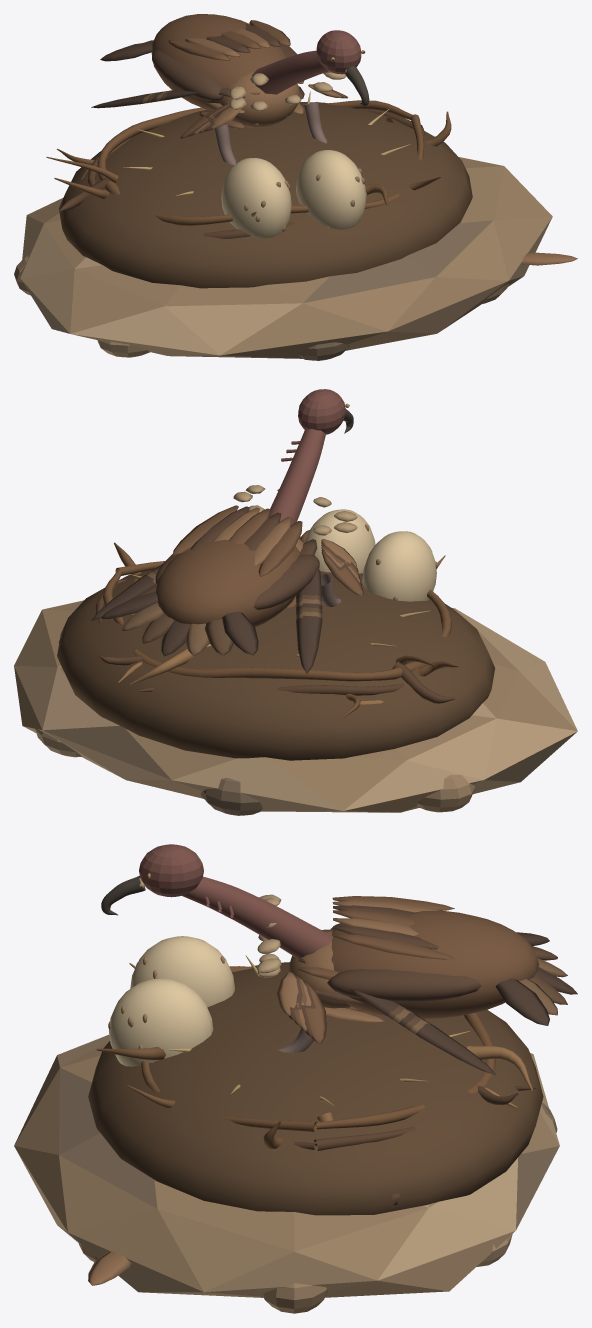
The model's file is ninho_abutres.glb.
The picture shows the model from 3 angles, top to bottom: view 1: azimuth 30°, elevation 25°; view 2: azimuth 150°, elevation 25°; view 3: azimuth 270°, elevation 25°; orthographic projection. The views are drawn at different scales.
Parts seen in each view (by area): view 1: Ninho de abutres | Arenito | sombra, Base entrelaçada do ninho, Ninho de abutres | Ovos | marfim manchado, Ninho de abutres | Plumagem | chocolate, Ninho de abutres | Galho seco | castanho, Ninho de abutres | Plumagem | castanho quente, Ninho de abutres | Pele nua | vermelho terroso, Ninho de abutres | Plumagem | asa escura, Ninho de abutres | Galho seco | sombra, Ninho de abutres | Rêmiges | carvão castanho, Ninho de abutres | Penugem clara do pescoço, Ninho de abutres | Pernas | cinza arroxeado (+1 smaller); view 2: Base entrelaçada do ninho, Ninho de abutres | Arenito | sombra, Ninho de abutres | Plumagem | chocolate, Ninho de abutres | Ovos | marfim manchado, Ninho de abutres | Rêmiges | carvão castanho, Ninho de abutres | Galho seco | castanho, Ninho de abutres | Pele nua | vermelho terroso, Ninho de abutres | Plumagem | asa escura, Ninho de abutres | Galho seco | sombra, Ninho de abutres | Plumagem | castanho quente, Ninho de abutres | Rêmiges | marrom escuro, Ninho de abutres | Rêmiges | ponta gasta (+2 smaller); view 3: Base entrelaçada do ninho, Ninho de abutres | Arenito | sombra, Ninho de abutres | Plumagem | chocolate, Ninho de abutres | Ovos | marfim manchado, Ninho de abutres | Pele nua | vermelho terroso, Ninho de abutres | Plumagem | asa escura, Ninho de abutres | Plumagem | castanho quente, Ninho de abutres | Galho seco | castanho, Ninho de abutres | Rêmiges | carvão castanho, Ninho de abutres | Galho seco | sombra, Ninho de abutres | Galho seco | sol, Ninho de abutres | Penugem clara do pescoço (+3 smaller).
Part boxes in pixels (<box>): Ninho de abutres | Arenito | sombra: <box>14,157,552,360</box>; Base entrelaçada do ninho: <box>59,102,472,288</box>; Ninho de abutres | Ovos | marfim manchado: <box>221,150,366,238</box>; Ninho de abutres | Plumagem | chocolate: <box>151,14,347,138</box>; Ninho de abutres | Galho seco | castanho: <box>46,100,451,225</box>; Ninho de abutres | Plumagem | castanho quente: <box>185,28,577,265</box>; Ninho de abutres | Pele nua | vermelho terroso: <box>251,30,361,94</box>; Ninho de abutres | Plumagem | asa escura: <box>152,23,346,136</box>; Ninho de abutres | Galho seco | sombra: <box>59,108,424,238</box>; Ninho de abutres | Rêmiges | carvão castanho: <box>91,41,197,108</box>; Ninho de abutres | Penugem clara do pescoço: <box>228,69,346,111</box>; Ninho de abutres | Pernas | cinza arroxeado: <box>214,102,327,165</box>; Base entrelaçada do ninho: <box>57,569,495,760</box>; Ninho de abutres | Arenito | sombra: <box>14,600,577,815</box>; Ninho de abutres | Plumagem | chocolate: <box>155,505,363,626</box>; Ninho de abutres | Ovos | marfim manchado: <box>304,509,436,601</box>; Ninho de abutres | Rêmiges | carvão castanho: <box>91,565,322,673</box>; Ninho de abutres | Galho seco | castanho: <box>102,530,458,719</box>; Ninho de abutres | Pele nua | vermelho terroso: <box>268,389,345,525</box>; Ninho de abutres | Plumagem | asa escura: <box>155,506,361,609</box>; Ninho de abutres | Galho seco | sombra: <box>59,579,454,751</box>; Ninho de abutres | Plumagem | castanho quente: <box>213,507,360,583</box>; Ninho de abutres | Rêmiges | marrom escuro: <box>142,569,322,655</box>; Ninho de abutres | Rêmiges | ponta gasta: <box>122,564,322,655</box>; Base entrelaçada do ninho: <box>88,962,543,1215</box>; Ninho de abutres | Arenito | sombra: <box>14,1034,559,1313</box>; Ninho de abutres | Plumagem | chocolate: <box>294,896,539,1043</box>; Ninho de abutres | Ovos | marfim manchado: <box>109,936,234,1066</box>; Ninho de abutres | Pele nua | vermelho terroso: <box>139,844,333,958</box>; Ninho de abutres | Plumagem | asa escura: <box>288,905,481,1036</box>; Ninho de abutres | Plumagem | castanho quente: <box>88,900,438,1285</box>; Ninho de abutres | Galho seco | castanho: <box>96,966,495,1149</box>; Ninho de abutres | Rêmiges | carvão castanho: <box>350,932,577,1075</box>; Ninho de abutres | Galho seco | sombra: <box>294,1085,535,1205</box>; Ninho de abutres | Galho seco | sol: <box>129,963,532,1121</box>; Ninho de abutres | Penugem clara do pescoço: <box>139,877,281,977</box>.
Bounding box in the file's own units: 0.8037 × 0.461 × 0.6564.
